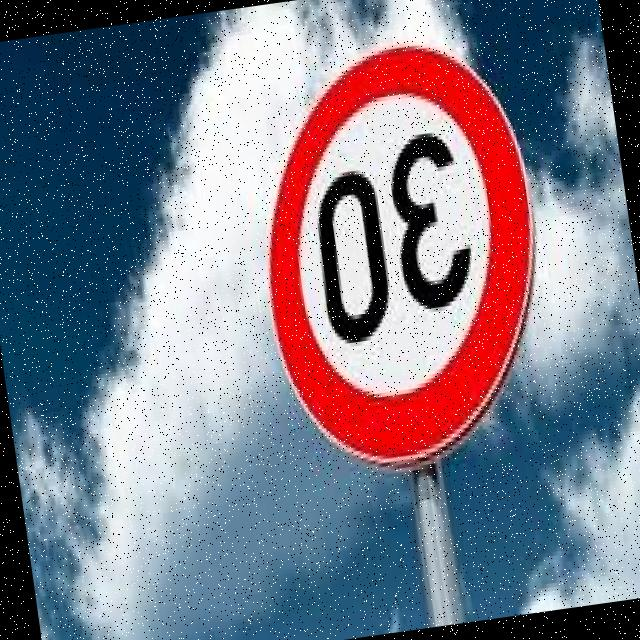speed_limit_30: (228, 22, 575, 496)
